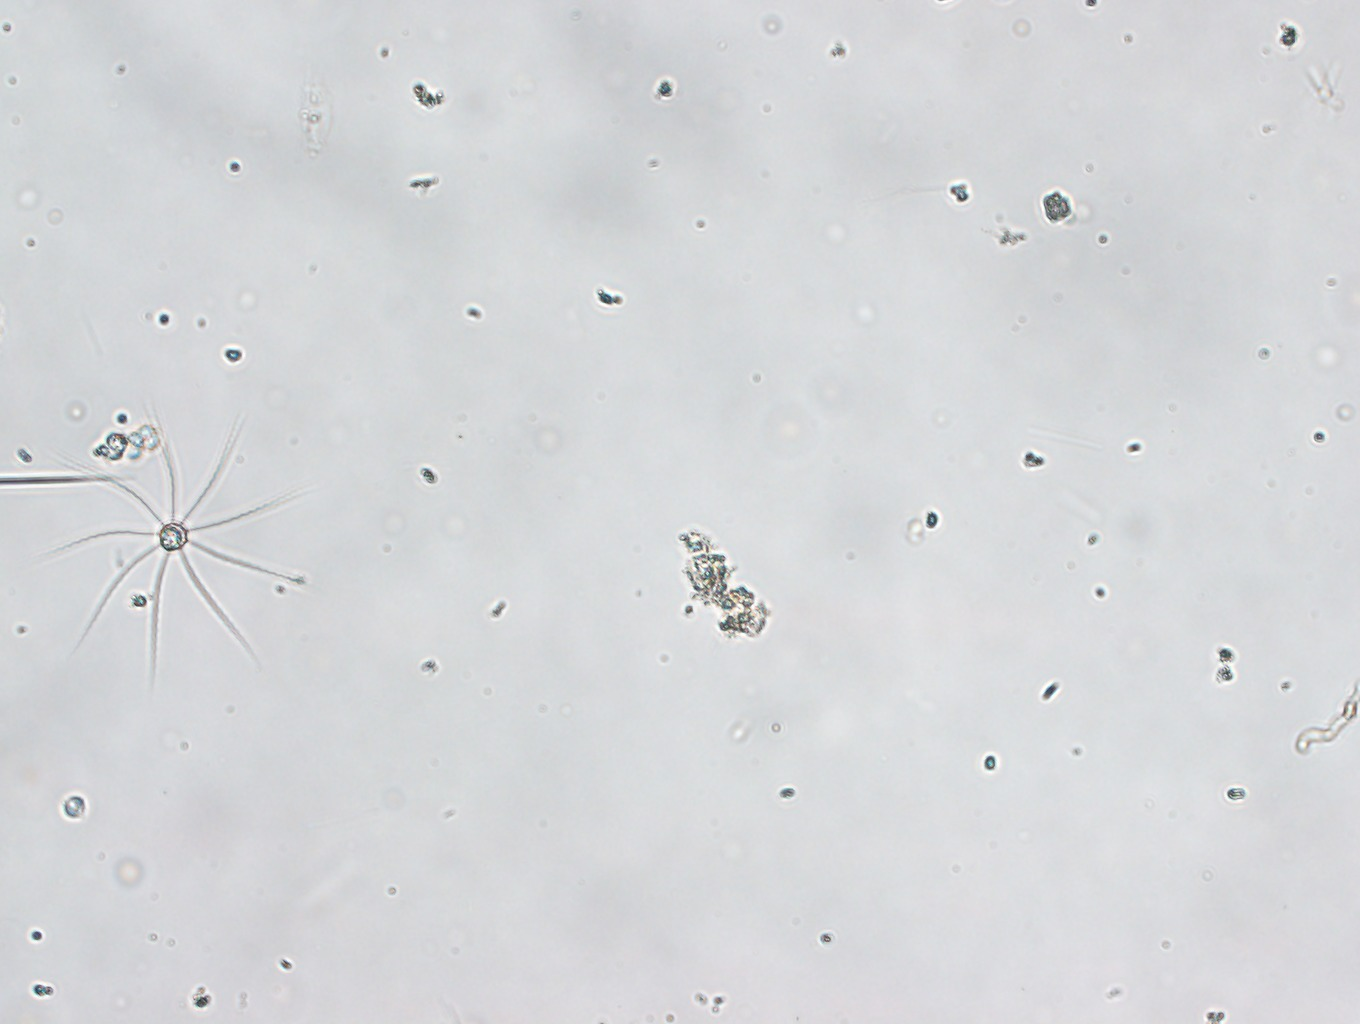bacteriastrum: (56, 421, 311, 693)
